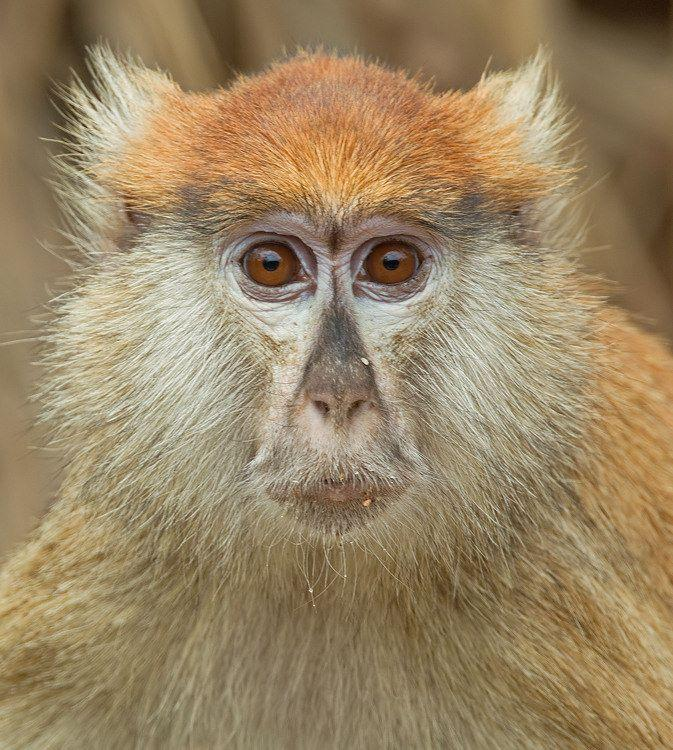monkey: (0, 45, 673, 750)
